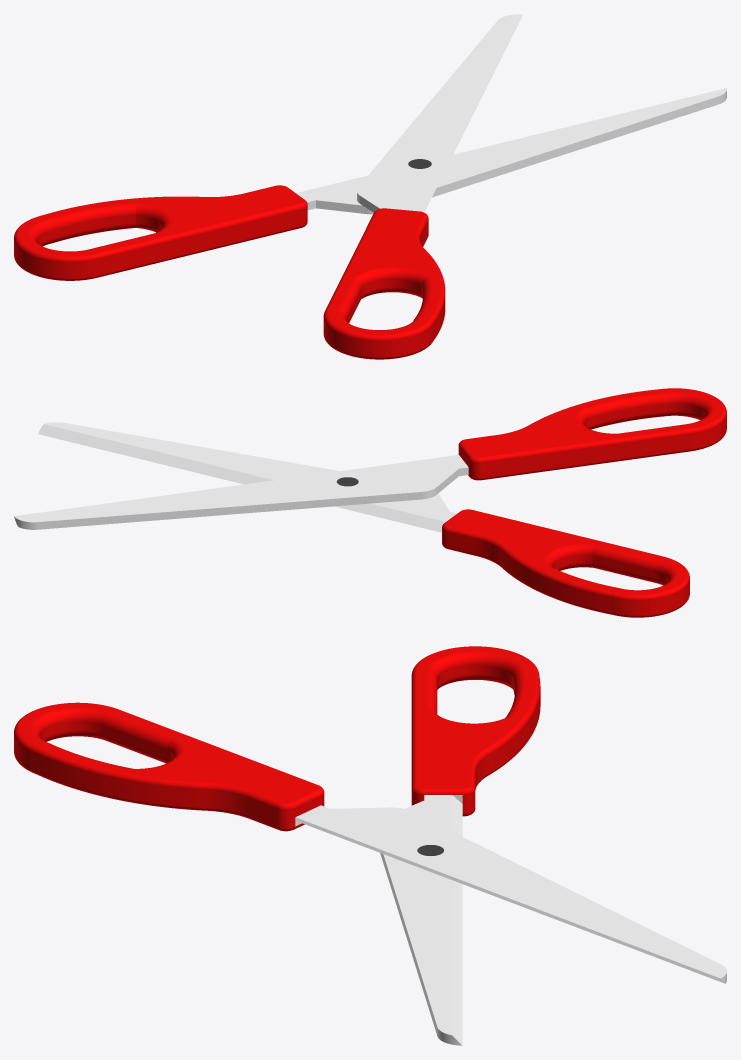
File: Tijeras.fbx
The picture shows the model from 3 angles, top to bottom: view 1: azimuth 30°, elevation 25°; view 2: azimuth 150°, elevation 25°; view 3: azimuth 270°, elevation 25°; orthographic projection. The views are drawn at different scales.
Parts seen in each view (by area): view 1: Part1 (×2), Part2 (×2); view 2: Part1 (×2), Part2 (×2); view 3: Part1 (×2), Part2 (×2).
Part boxes in pixels (bbox=[...]): Part1 (×2): bbox=[14, 185, 445, 359]; Part2 (×2): bbox=[296, 14, 726, 214]; Part1 (×2): bbox=[442, 388, 726, 617]; Part2 (×2): bbox=[14, 422, 468, 532]; Part1 (×2): bbox=[14, 646, 540, 831]; Part2 (×2): bbox=[295, 795, 726, 1045].
Size of the model in its own units: 359 by 20 by 279.
